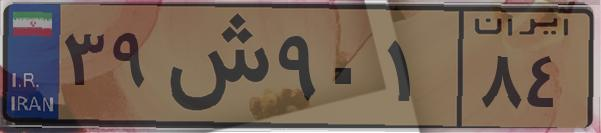0: (330, 28, 385, 110)
1: (385, 28, 445, 110)
3: (57, 26, 110, 100)
4: (525, 38, 570, 115)
8: (475, 38, 525, 113)
9: (270, 28, 330, 110), (110, 28, 158, 98)
ش: (158, 12, 270, 120)
